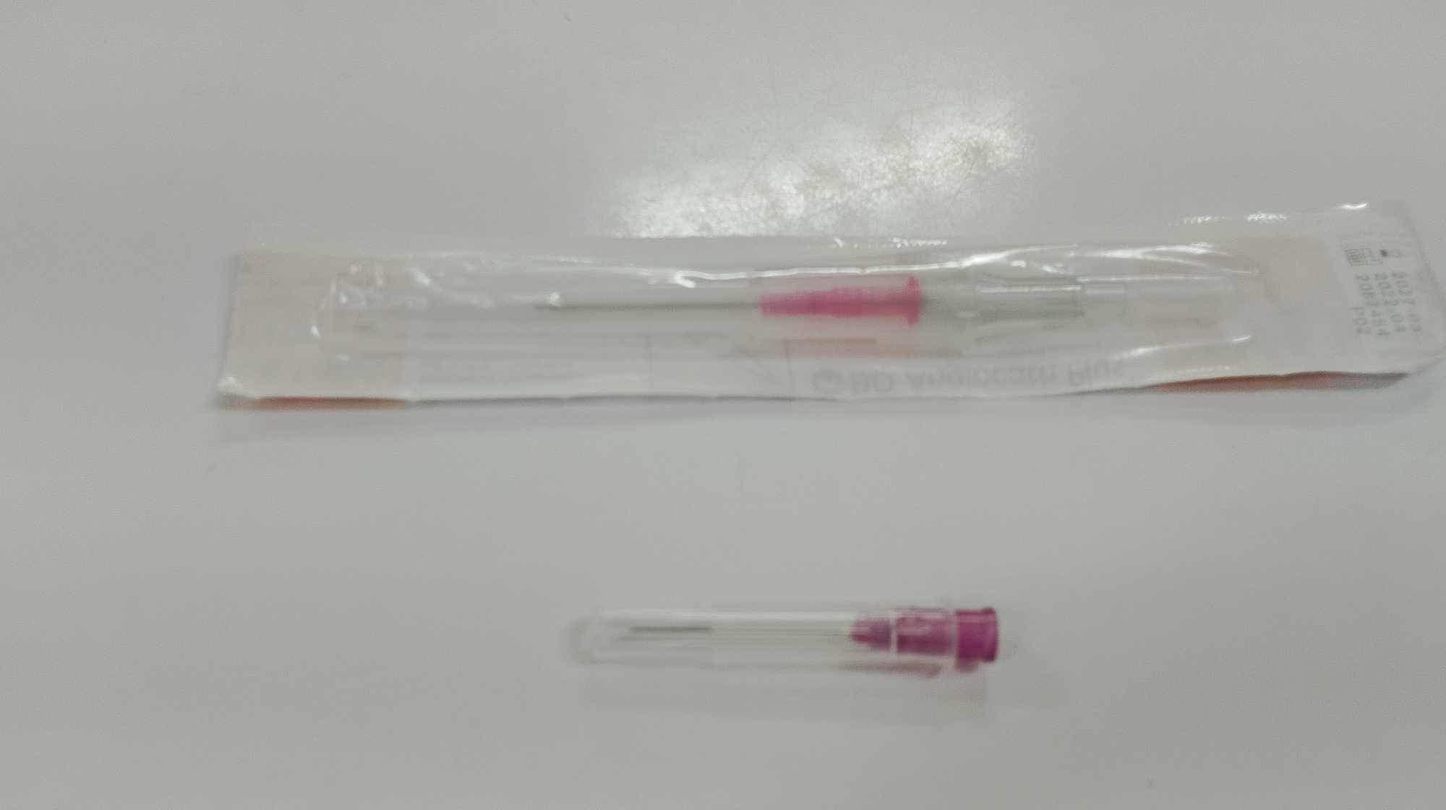General: (213, 193, 1440, 410), (846, 602, 1002, 668)
Sharps: (566, 601, 1002, 675)
